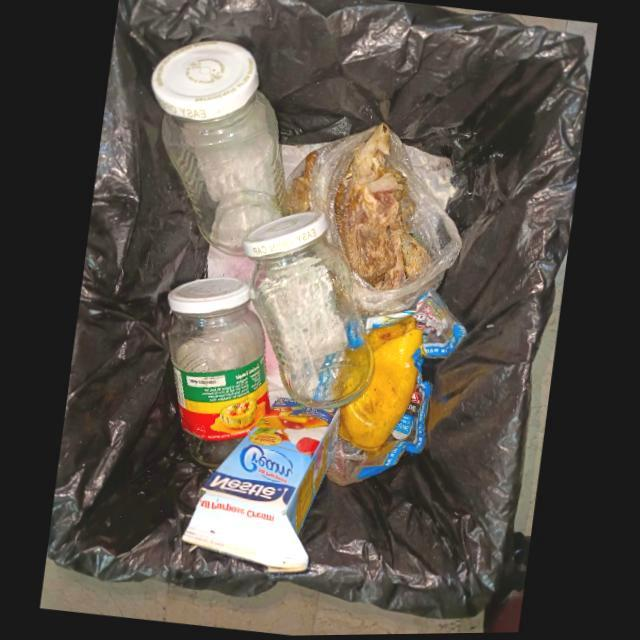glass_bottle: (150, 39, 284, 256), (241, 210, 375, 411), (166, 277, 270, 469)
left_over_food: (332, 125, 428, 287)
